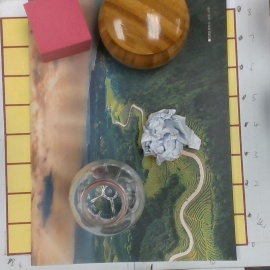bottle: (67, 159, 145, 236)
chess: (98, 1, 189, 69)
